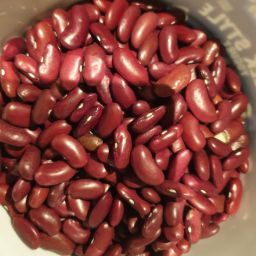Pinto Beans (kidney beans): (4, 6, 256, 256), (43, 59, 192, 190)
